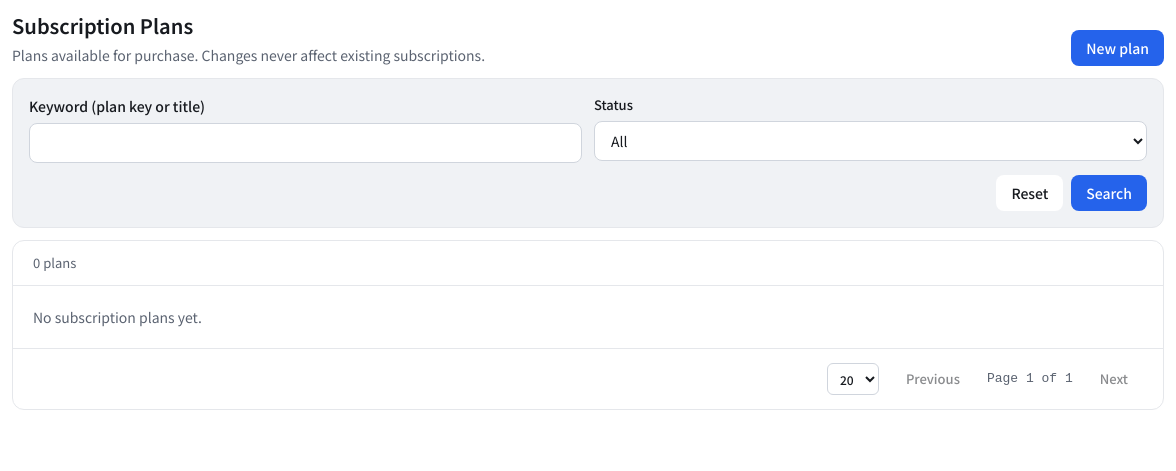
Test: SubscriptionPlansPage › shows the empty state and a filtered-empty variant
Expected: the text "No subscription plans yet." is shown, [33,306,202,328]
Type "x" into the field labelled "Keyword (plan key or title)".
click(306, 143); type("x")  # box [29,123,582,163]
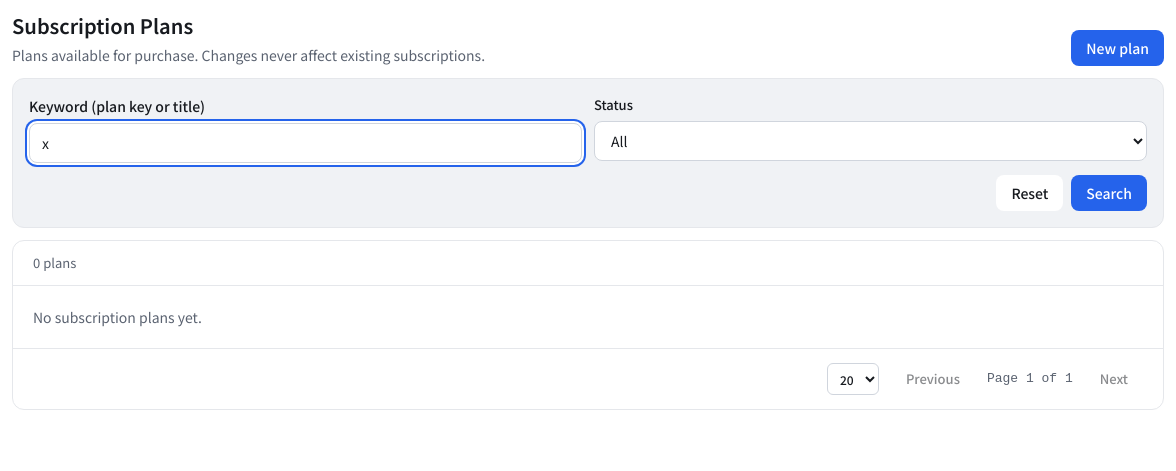
Click the button "Search".
click(1109, 193)  # box [1071,175,1147,211]
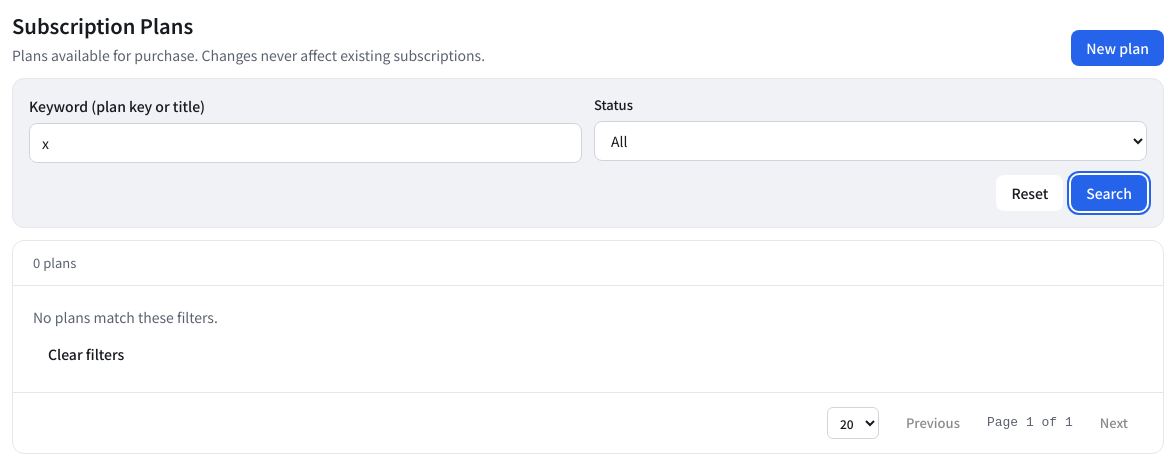
Expected: the text "No plans match these filters." is shown, [33,306,218,328]
